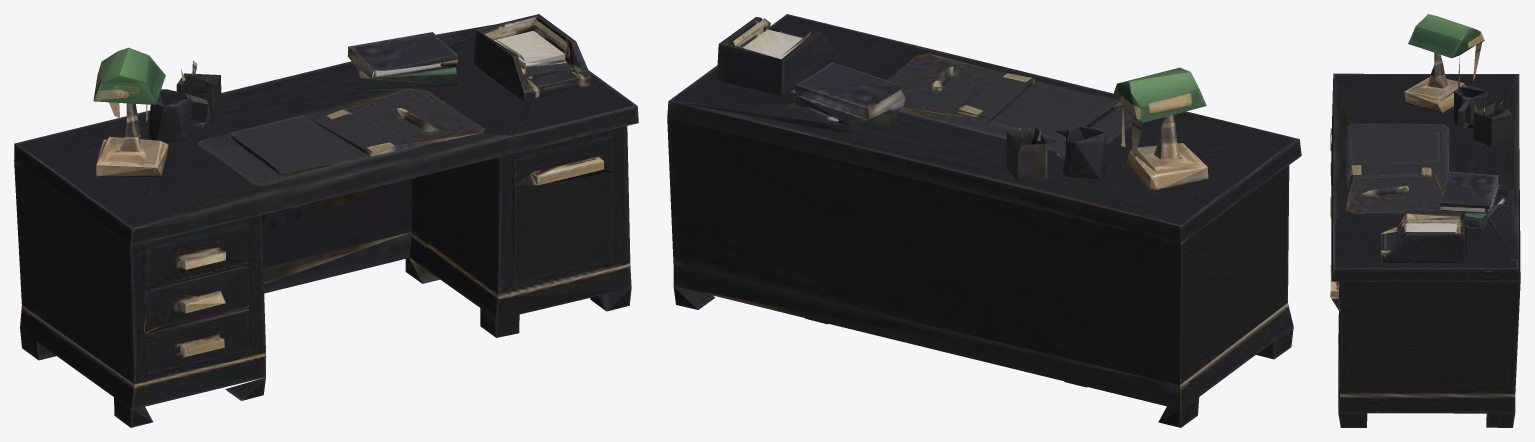
Rendered from mesa_escritorio.glb.
3 views of the same model, side by side, from view 1: azimuth 30°, elevation 25°; view 2: azimuth 150°, elevation 25°; view 3: azimuth 270°, elevation 25° (orthographic). The views are drawn at different scales.
Parts seen in each view (by area): view 1: Mesh_0; view 2: Mesh_0; view 3: Mesh_0.
Part boxes in pixels (x1,y1,x2,y2): Mesh_0: (14, 14, 638, 427); Mesh_0: (667, 14, 1301, 427); Mesh_0: (1330, 14, 1520, 427).
Bounding box in the file's own units: 1.34 × 0.76 × 0.5479.
Materials: 1 (1 with a texture image).
